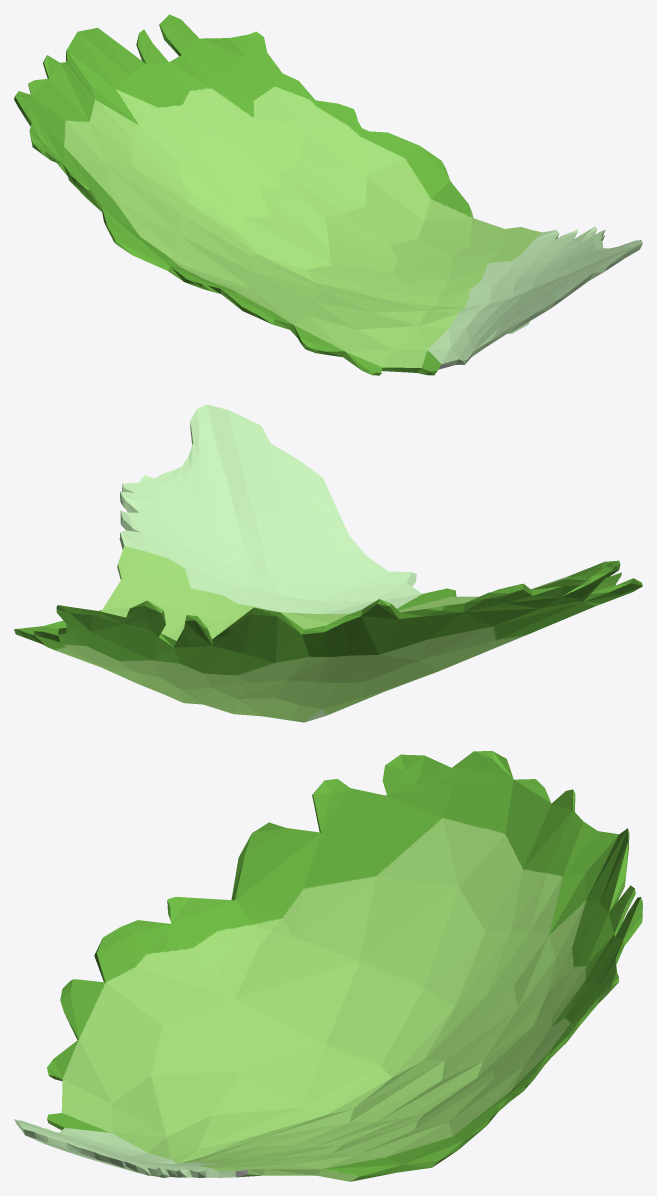
The model's file is yangfifnfnfnfnfnf.fbx.
3 views of the same model, one above another, from view 1: azimuth 30°, elevation 25°; view 2: azimuth 150°, elevation 25°; view 3: azimuth 270°, elevation 25° (orthographic). The views are drawn at different scales.
Parts seen in each view (by area): view 1: yangleaf; view 2: yangleaf; view 3: yangleaf.
Boxes of the visible parts, x1=… form: yangleaf: x1=14, y1=14, x2=642, y2=375; yangleaf: x1=14, y1=404, x2=642, y2=722; yangleaf: x1=14, y1=751, x2=642, y2=1181.
Size of the model in its own units: 177 by 74.44 by 174.
